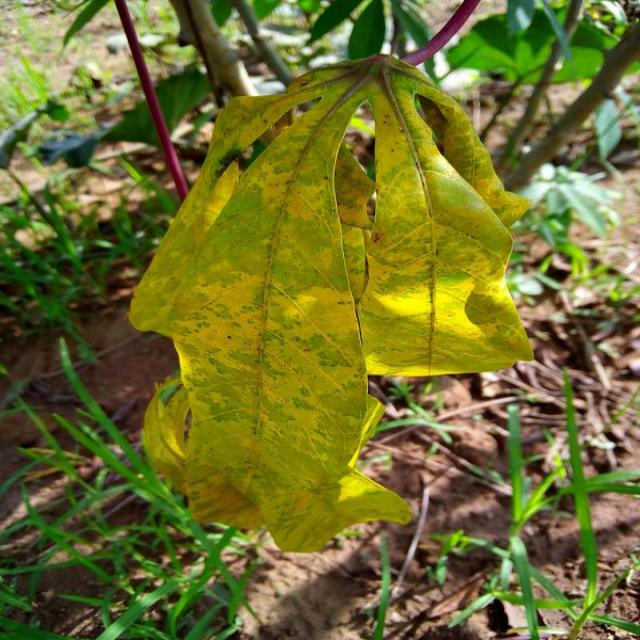cassava leaf: (128, 51, 535, 554)
